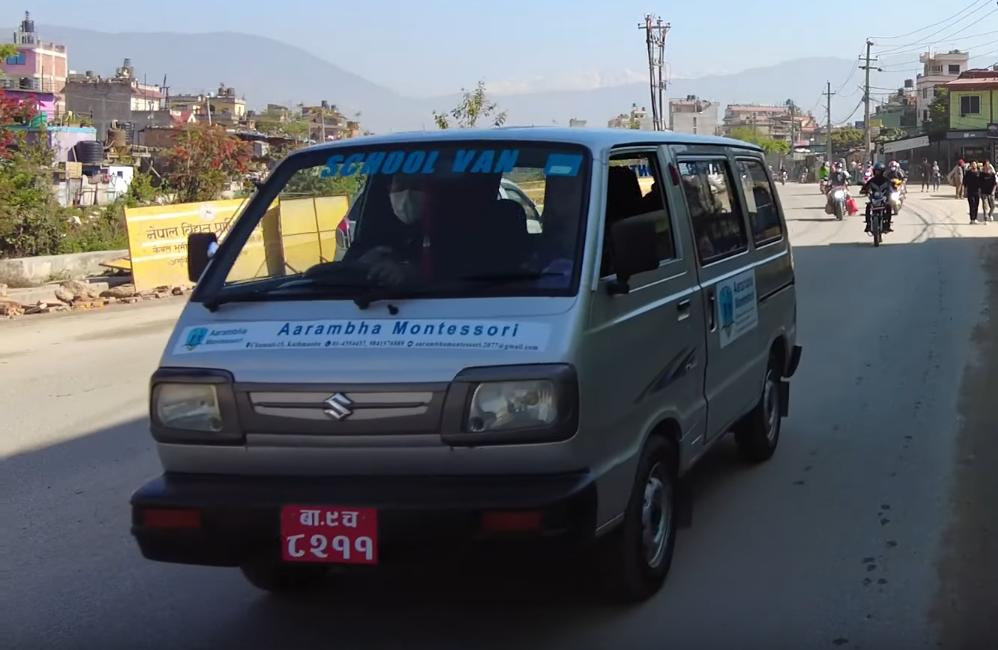van: (131, 114, 834, 617)
